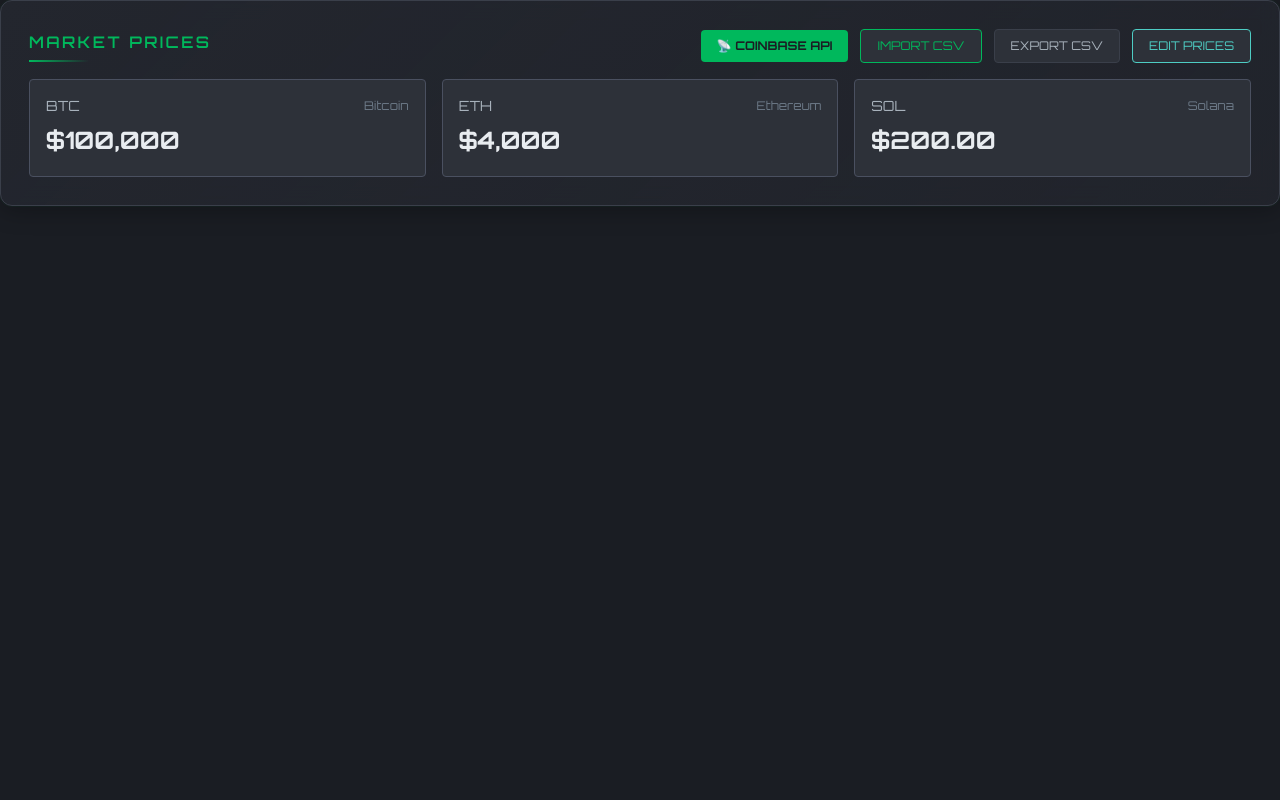
Test: AssetPricePanel › modal interactions › should open price edit modal when edit button clicked
The image size is (1280, 800).
Click the button "EDIT PRICES" at (1192, 46), box [1132, 29, 1251, 63]
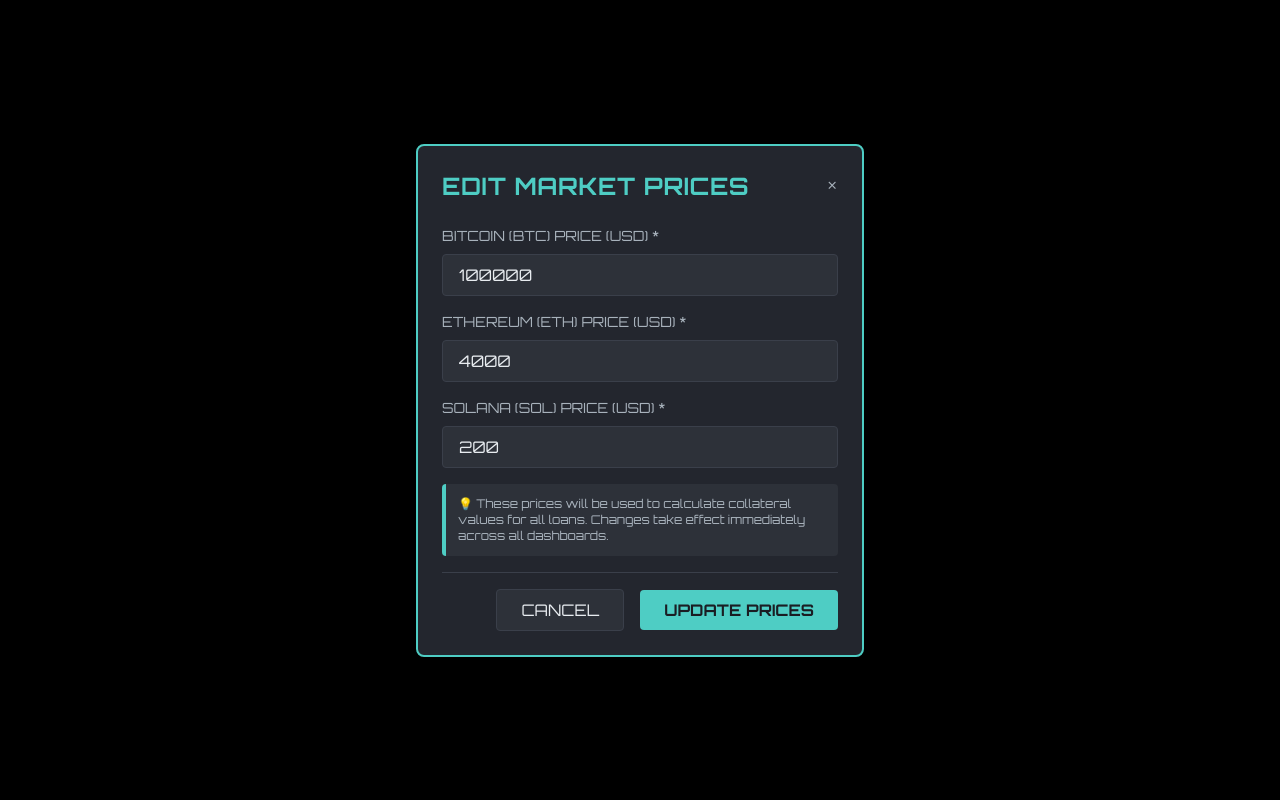
Check: the heading "EDIT MARKET PRICES" is shown, box [442, 170, 749, 202]
Check: the text "BITCOIN (BTC) PRICE (USD) *" is shown, box [442, 226, 659, 244]
